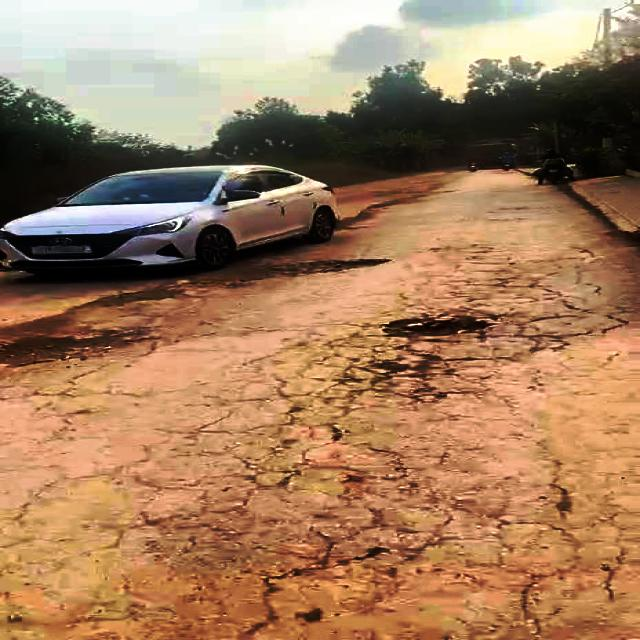pothole: (0, 327, 154, 370), (375, 310, 490, 340)
